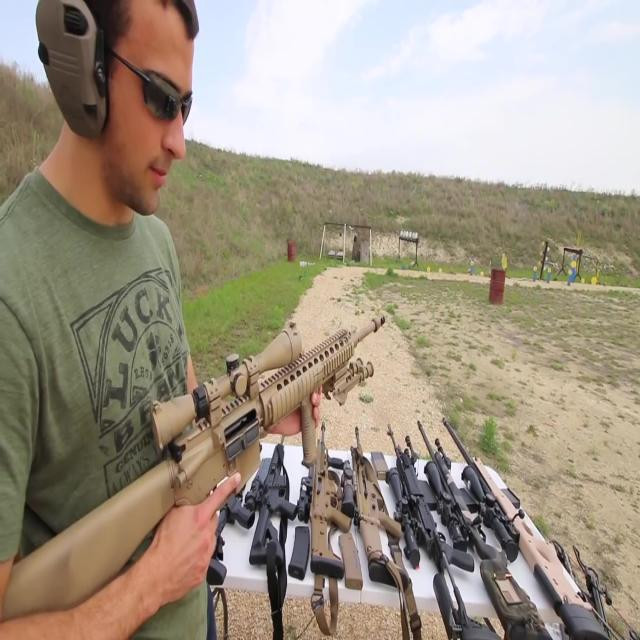Weapon: (0, 274, 400, 640), (174, 356, 628, 640)
